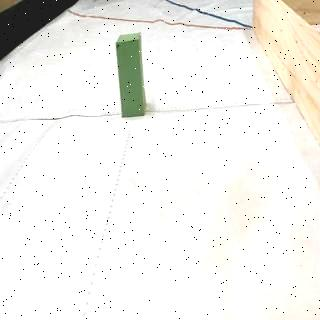greenbox: (116, 34, 146, 117)
